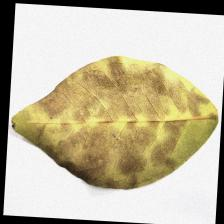black spot: (58, 90, 183, 166)
